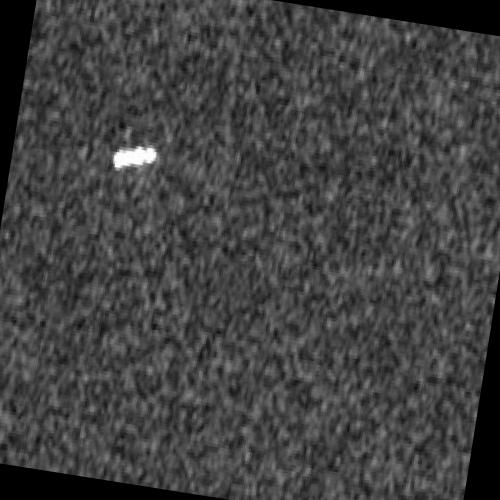ship: (112, 144, 158, 169)
